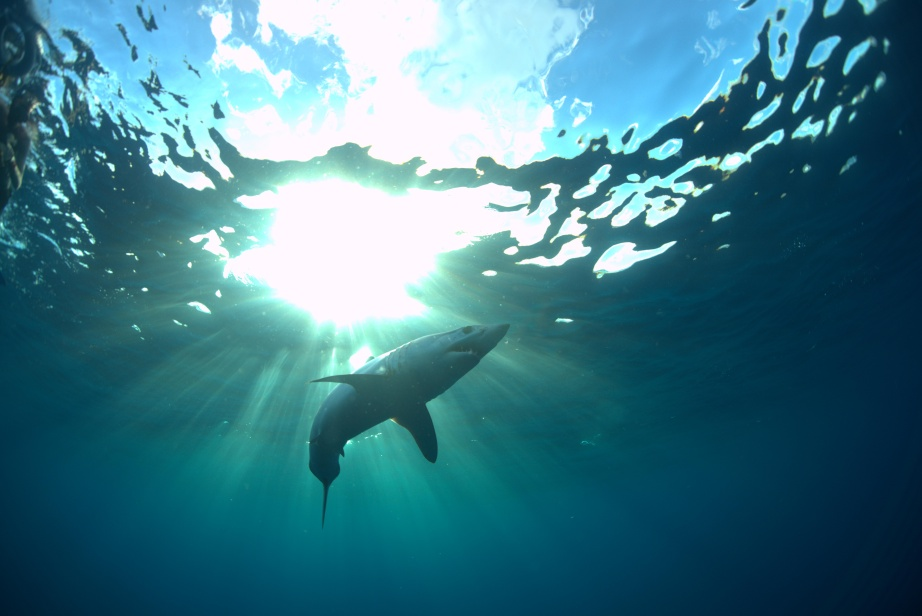Mako: (289, 295, 524, 540)
